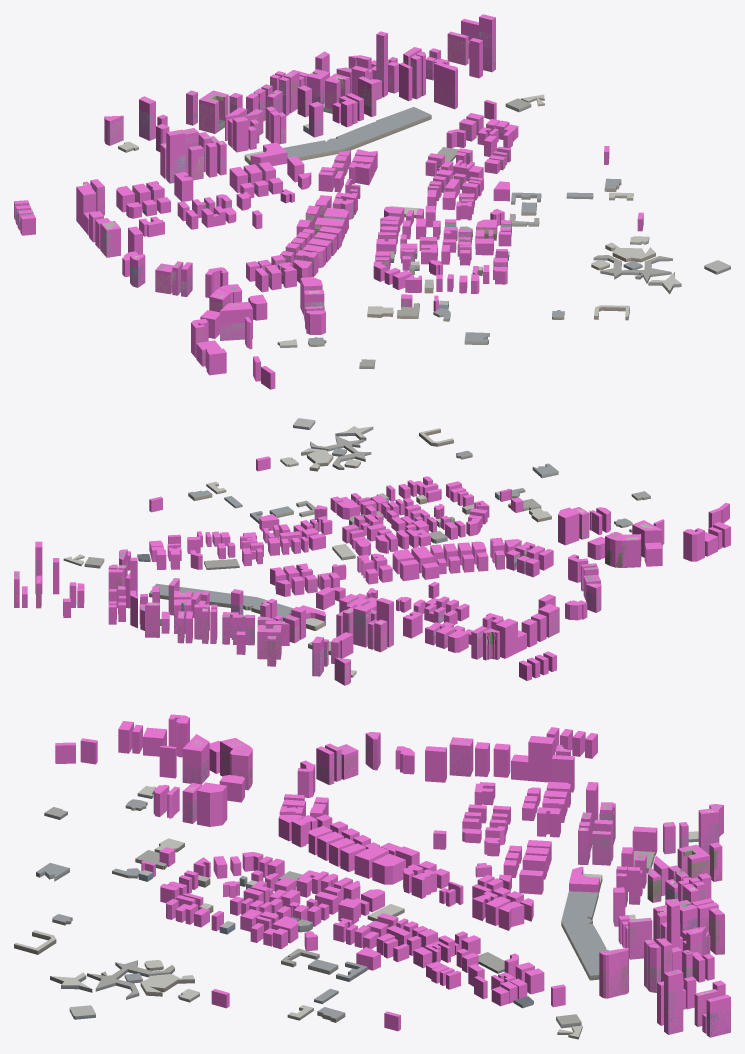
The model's file is bld_17_14.fbx.
3 renders of one model, top to bottom at view 1: azimuth 30°, elevation 25°; view 2: azimuth 150°, elevation 25°; view 3: azimuth 270°, elevation 25°, orthographic. The views are drawn at different scales.
Parts seen in each view (by area): view 1: bld_17_14_COL, bld_17_14_LOD0; view 2: bld_17_14_COL, bld_17_14_LOD0; view 3: bld_17_14_COL, bld_17_14_LOD0.
Boxes of the visible parts, x1,y1,x2,y2 form: bld_17_14_COL: [14, 14, 643, 389]; bld_17_14_LOD0: [15, 16, 730, 368]; bld_17_14_COL: [14, 456, 730, 685]; bld_17_14_LOD0: [14, 418, 662, 684]; bld_17_14_COL: [55, 714, 730, 1037]; bld_17_14_LOD0: [14, 733, 730, 1039].
Size of what is drawn, in the model's own units: 2050 by 224 by 2103.
